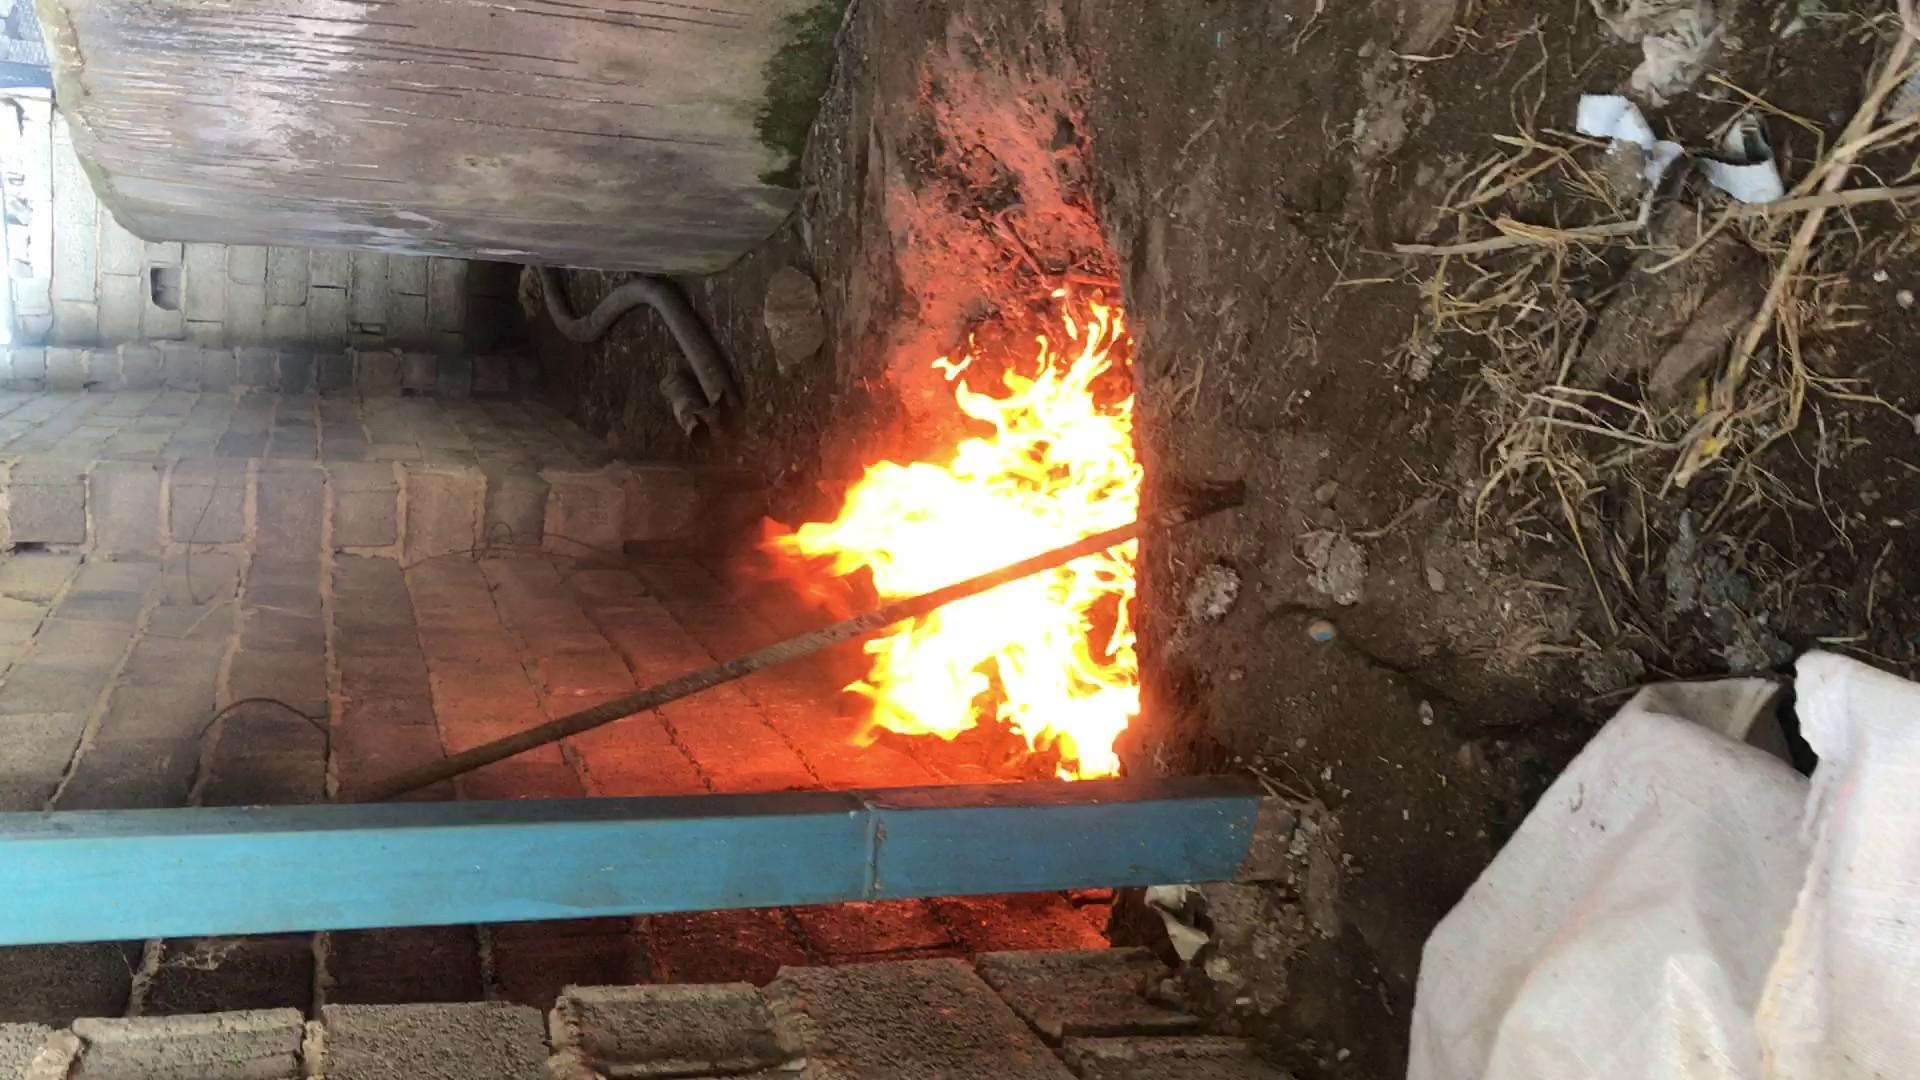fire: (484, 456, 1436, 679)
